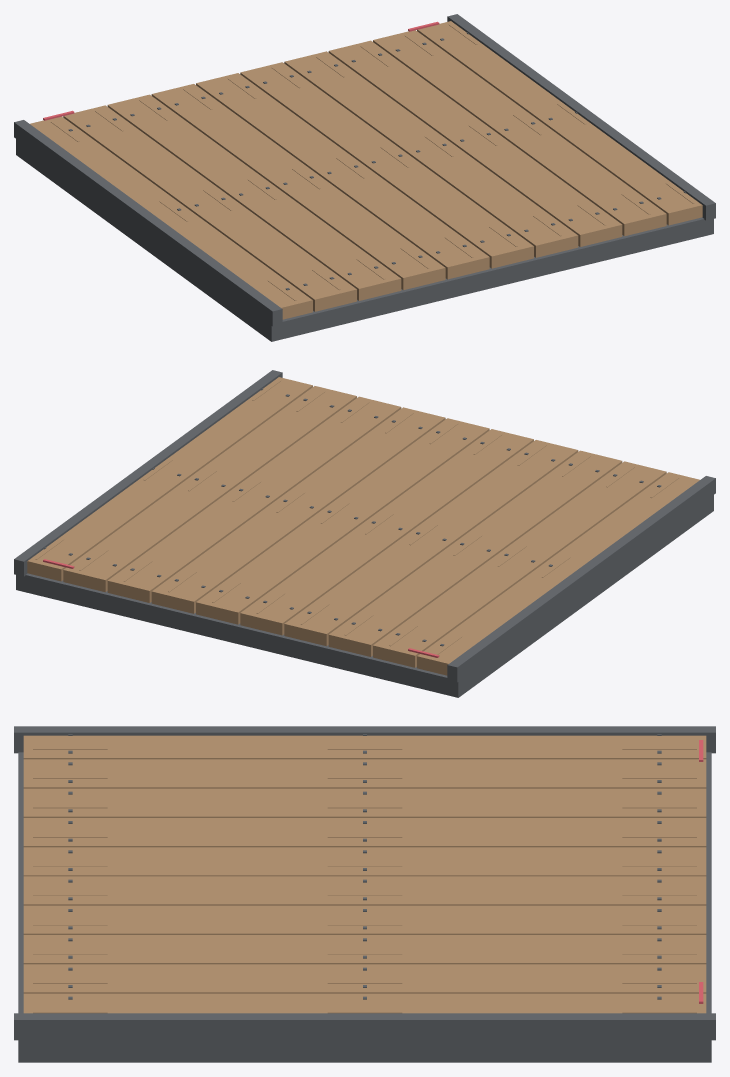
The model's file is BuildFloor.glb.
The picture shows the model from 3 angles, top to bottom: view 1: azimuth 30°, elevation 25°; view 2: azimuth 150°, elevation 25°; view 3: azimuth 270°, elevation 25°; orthographic projection. The views are drawn at different scales.
Visible parts, largest first — view 1: underside, wood_plank_6, wood_plank_3, wood_plank_7, wood_plank_5, wood_plank_4, wood_plank_8, wood_plank_2, wood_plank_1, wood_plank_9, wood_plank_0, edge_-1.96 (+1 smaller); view 2: underside, wood_plank_6, wood_plank_3, wood_plank_7, wood_plank_5, wood_plank_4, wood_plank_2, wood_plank_8, wood_plank_1, wood_plank_9, wood_plank_0, edge_-1.96 (+1 smaller); view 3: wood_plank_4, wood_plank_5, wood_plank_7, wood_plank_2, wood_plank_6, wood_plank_3, wood_plank_1, wood_plank_8, edge_1.96, underside, wood_plank_0, wood_plank_9 (+1 smaller).
Part boxes in pixels (x1,y1,x2,y2): underside: (16, 139, 713, 341); wood_plank_6: (284, 51, 578, 257); wood_plank_3: (151, 84, 445, 290); wood_plank_7: (328, 40, 622, 246); wood_plank_5: (240, 62, 533, 268); wood_plank_4: (196, 73, 489, 279); wood_plank_8: (373, 30, 666, 236); wood_plank_2: (107, 94, 401, 300); wood_plank_1: (63, 105, 356, 311); wood_plank_9: (417, 21, 702, 225); wood_plank_0: (30, 116, 312, 319); edge_-1.96: (14, 120, 282, 326); underside: (16, 495, 713, 697); wood_plank_6: (151, 407, 445, 613); wood_plank_3: (284, 440, 578, 646); wood_plank_7: (107, 396, 401, 602); wood_plank_5: (196, 418, 489, 624); wood_plank_4: (240, 429, 533, 635); wood_plank_2: (328, 450, 622, 656); wood_plank_8: (63, 386, 356, 592); wood_plank_1: (373, 461, 666, 667); wood_plank_9: (27, 377, 312, 581); wood_plank_0: (417, 472, 699, 675); edge_-1.96: (447, 476, 715, 682); wood_plank_4: (23, 847, 706, 876); wood_plank_5: (23, 876, 706, 905); wood_plank_7: (23, 935, 706, 964); wood_plank_2: (23, 788, 706, 817); wood_plank_6: (23, 905, 706, 934); wood_plank_3: (23, 818, 706, 847); wood_plank_1: (23, 759, 706, 788); wood_plank_8: (23, 964, 706, 993); edge_1.96: (14, 1013, 715, 1040); underside: (18, 752, 711, 1062); wood_plank_0: (23, 735, 706, 759); wood_plank_9: (23, 993, 706, 1013).
Bounding box in the file's own units: 4.01 × 0.289 × 4.05.
